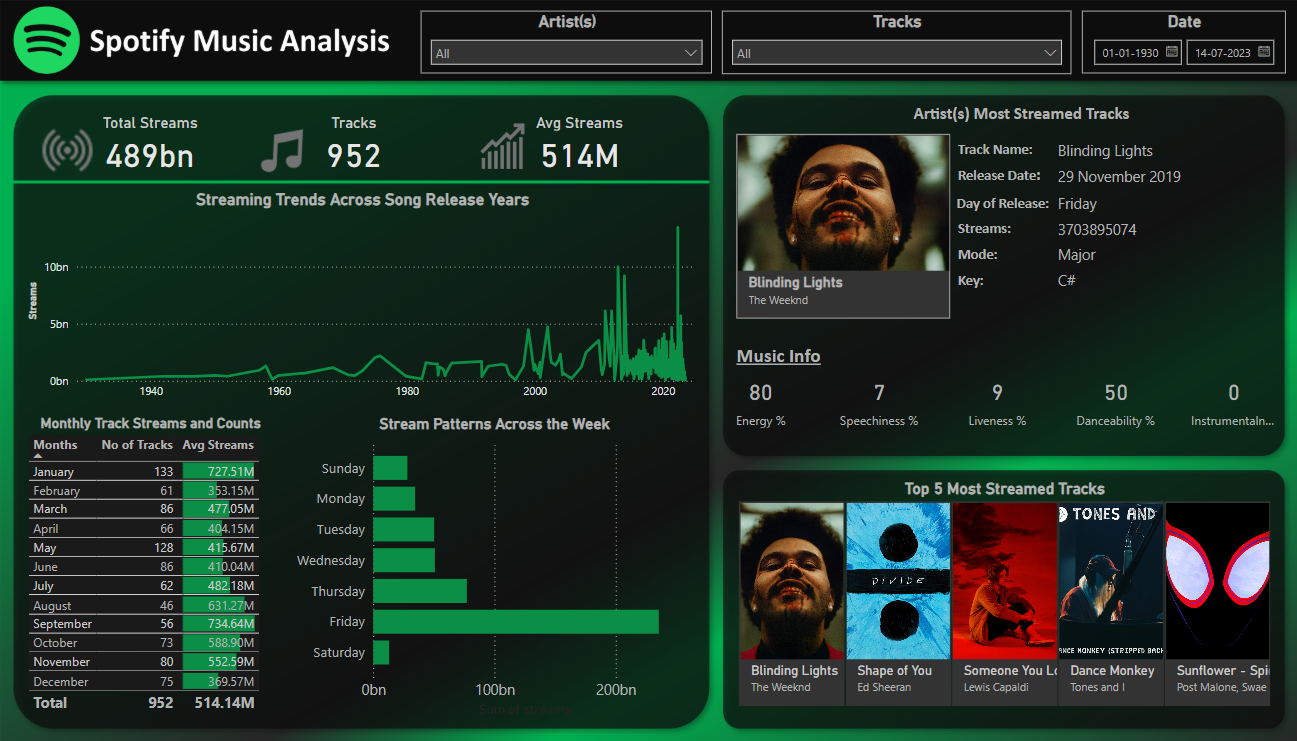

What the dashboard file says about the page in this screenshot:
{"tool":"powerbi","page":{"name":"SPOTIFY DASHBOARD","canvas":[1440,820],"ordinal":0},"visuals":[{"type":"card","title":"Total Streams","fields":{"Values":["Sum(Spotify Dataset.streams)"]},"box":[94.8,127.8,147,67.3],"z":0},{"type":"card","title":"Tracks","fields":{"Values":["CountNonNull(Spotify Dataset.track_name)"]},"box":[318.8,127.8,147,67.3],"z":1000},{"type":"card","title":"Avg Streams","fields":{"Values":["Avg(Spotify Dataset.streams)"]},"box":[560.6,127.8,159.4,67.3],"z":2000},{"type":"lineChart","title":"Streaming Trends Across Song Release Years","fields":{"Category":["Dim_Date.Date"],"Y":["Sum(Spotify Dataset.streams)"]},"box":[28.9,211.6,746.1,240.5],"z":3000},{"type":"tableEx","title":"Monthly Track Streams and Counts","fields":{"Values":["Dim_Date.MONTH","Spotify Dataset.track_name","Avg(Spotify Dataset.streams)"]},"box":[28.9,458.9,280.3,338],"z":4000},{"type":"clusteredBarChart","title":"Stream Patterns Across the Week","fields":{"Y":["Sum(Spotify Dataset.streams)"],"Category":["Dim_Date.DAY NAME"]},"box":[318.8,458.9,456.2,338],"z":5000},{"type":"textbox","box":[981,111.3,289.9,67.3],"z":6000},{"type":"advancedSlicerVisual","fields":{"Values":["Spotify Dataset.track_name"]},"box":[807.4,145.1,245.5,213],"z":7000},{"type":"multiRowCard","fields":{"Values":["Spotify Dataset.track_name","Spotify Dataset.Date","Dim_Date.DAY NAME","Sum(Spotify Dataset.streams)","Spotify Dataset.mode","Spotify Dataset.key"]},"box":[1161.2,152.6,190.4,179.4],"z":8000},{"type":"textbox","box":[1050.9,152.7,120.6,32],"z":9000},{"type":"textbox","box":[1050.4,212.2,129.8,31.9],"z":10000},{"type":"textbox","box":[1051,238.7,129.9,32.8],"z":11000},{"type":"textbox","box":[1051,268.1,64.7,34.3],"z":12000},{"type":"textbox","box":[1051,178.4,120.6,33.8],"z":13000},{"type":"textbox","box":[1051,296.6,53.9,35.3],"z":14000},{"type":"cardVisual","fields":{"Data":["Sum(Spotify Dataset.energy_%)","Sum(Spotify Dataset.speechiness_%)","Sum(Spotify Dataset.liveness_%)","Sum(Spotify Dataset.danceability_%)","Sum(Spotify Dataset.instrumentalness_%)"]},"box":[773.4,399.8,654.5,95.7],"z":15000},{"type":"textbox","box":[807.4,376.7,114.2,44.8],"z":16000},{"type":"advancedSlicerVisual","title":"Top 5 Most Streamed Tracks","fields":{"Values":["Spotify Dataset.track_name"]},"box":[810.5,531,594.3,254.7],"z":17000},{"type":"slicer","title":"Tracks","fields":{"Values":["Spotify Dataset.track_name"]},"box":[796.6,14.8,384.1,69.3],"z":18000},{"type":"slicer","title":"Date","fields":{"Values":["Dim_Date.Date"]},"box":[1192.6,15.1,224,68.7],"z":19000},{"type":"slicer","title":"Artist(s)","fields":{"Values":["Spotify Dataset.artist(s)_name"]},"box":[465.8,15.1,320.1,68.7],"z":20000}]}

Visuals, with their boxes in screenshot pixels (x1, y1, x2, y2), scaled from the page's 1440x820 canvas onto the 1297x741 screenshot:
"Total Streams" card: left=85, top=115, right=218, bottom=176
"Tracks" card: left=287, top=115, right=420, bottom=176
"Avg Streams" card: left=505, top=115, right=648, bottom=176
"Streaming Trends Across Song Release Years" lineChart: left=26, top=191, right=698, bottom=409
"Monthly Track Streams and Counts" tableEx: left=26, top=415, right=278, bottom=720
"Stream Patterns Across the Week" clusteredBarChart: left=287, top=415, right=698, bottom=720
textbox: left=884, top=101, right=1145, bottom=161
advancedSlicerVisual - Spotify Dataset.track_name: left=727, top=131, right=948, bottom=324
multiRowCard - Spotify Dataset.track_name x Spotify Dataset.Date: left=1046, top=138, right=1217, bottom=300
textbox: left=947, top=138, right=1055, bottom=167
textbox: left=946, top=192, right=1063, bottom=221
textbox: left=947, top=216, right=1064, bottom=245
textbox: left=947, top=242, right=1005, bottom=273
textbox: left=947, top=161, right=1055, bottom=192
textbox: left=947, top=268, right=995, bottom=300
cardVisual - Sum(Spotify Dataset.energy_%) x Sum(Spotify Dataset.speechiness_%): left=697, top=361, right=1286, bottom=448
textbox: left=727, top=340, right=830, bottom=381
"Top 5 Most Streamed Tracks" advancedSlicerVisual: left=730, top=480, right=1265, bottom=710
"Tracks" slicer: left=717, top=13, right=1063, bottom=76
"Date" slicer: left=1074, top=14, right=1276, bottom=76
"Artist(s)" slicer: left=420, top=14, right=708, bottom=76
